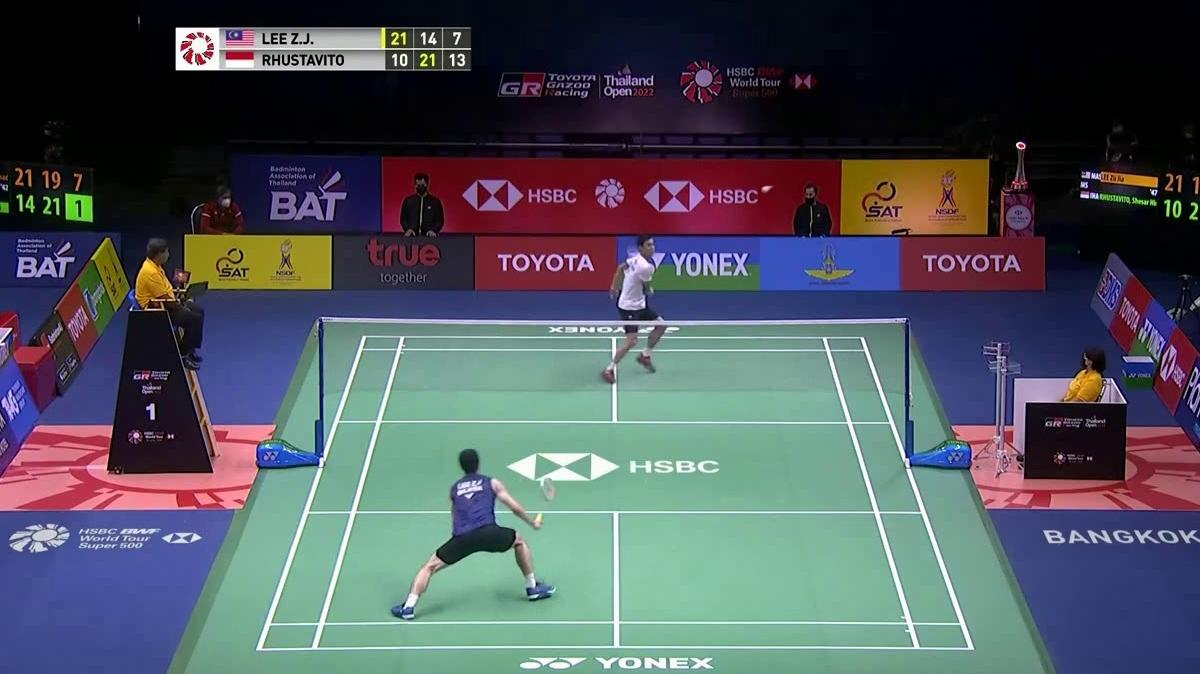racket: (536, 476, 556, 528)
shuttle: (761, 185, 774, 194)
